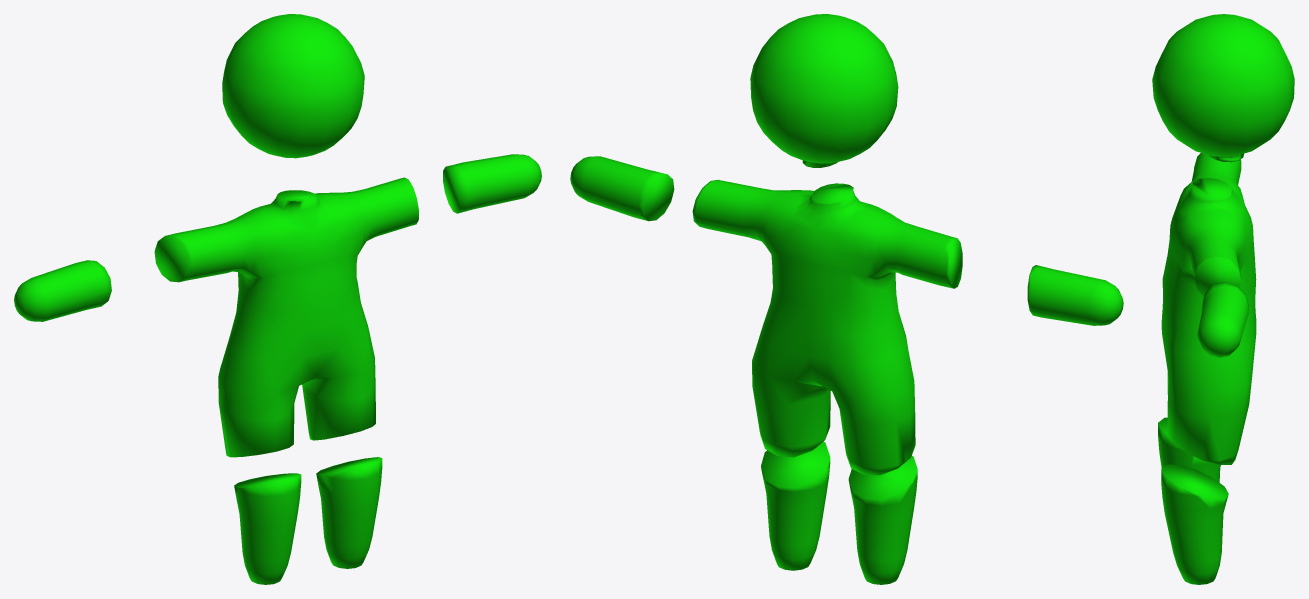
The model's file is EnemyByPart.fbx.
3 renders of one model, left to right at view 1: azimuth 30°, elevation 25°; view 2: azimuth 150°, elevation 25°; view 3: azimuth 270°, elevation 25°, orthographic. The views are drawn at different scales.
Visible parts, largest first — view 1: stickman.002, Head, leg1, leg2, hend2, hend1; view 2: stickman.002, Head, leg2, leg1, hend2, hend1; view 3: stickman.002, Head, leg2, hend2, leg1.
Part boxes in pixels (x1,y1,x2,y2): stickman.002: [154, 177, 418, 457]; Head: [222, 14, 364, 158]; leg1: [234, 473, 301, 584]; leg2: [316, 457, 382, 568]; hend2: [443, 154, 541, 213]; hend1: [14, 260, 111, 321]; stickman.002: [692, 179, 962, 475]; Head: [750, 14, 898, 167]; leg2: [761, 441, 830, 570]; leg1: [848, 456, 917, 584]; hend2: [570, 156, 674, 221]; hend1: [1027, 265, 1123, 325]; stickman.002: [1161, 153, 1256, 464]; Head: [1152, 14, 1294, 162]; leg2: [1161, 464, 1228, 584]; hend2: [1197, 281, 1248, 357]; leg1: [1158, 417, 1220, 482].
Size of the model in its own units: 232 by 232 by 55.1.
